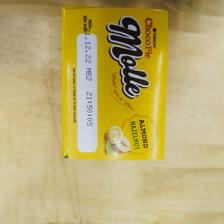Molle: (58, 2, 170, 165)
